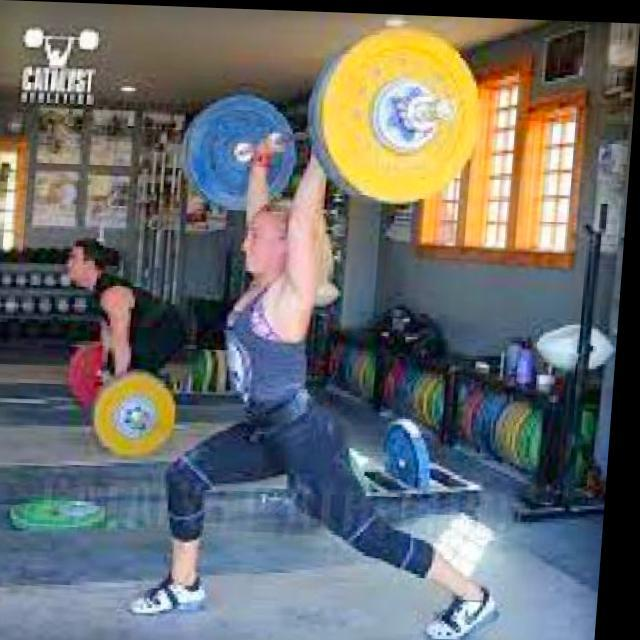barbell: (314, 21, 500, 211), (96, 364, 188, 461)
